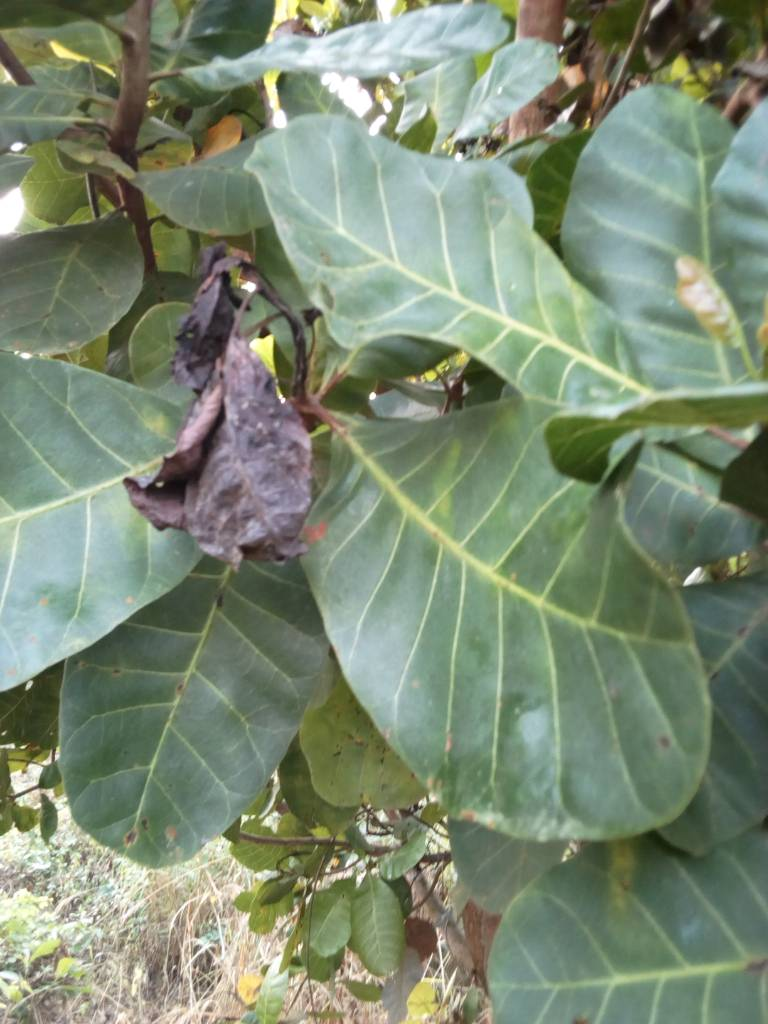Dessèchement des bourgeons: (136, 250, 308, 561)
